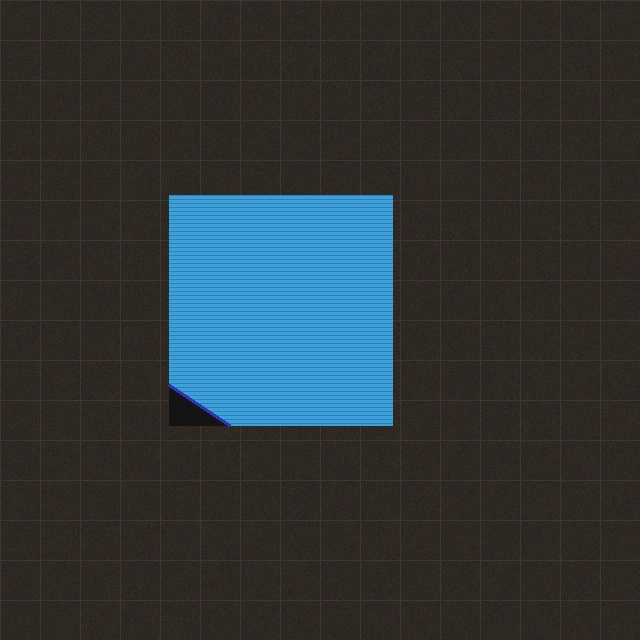warping: (159, 365, 249, 435)
